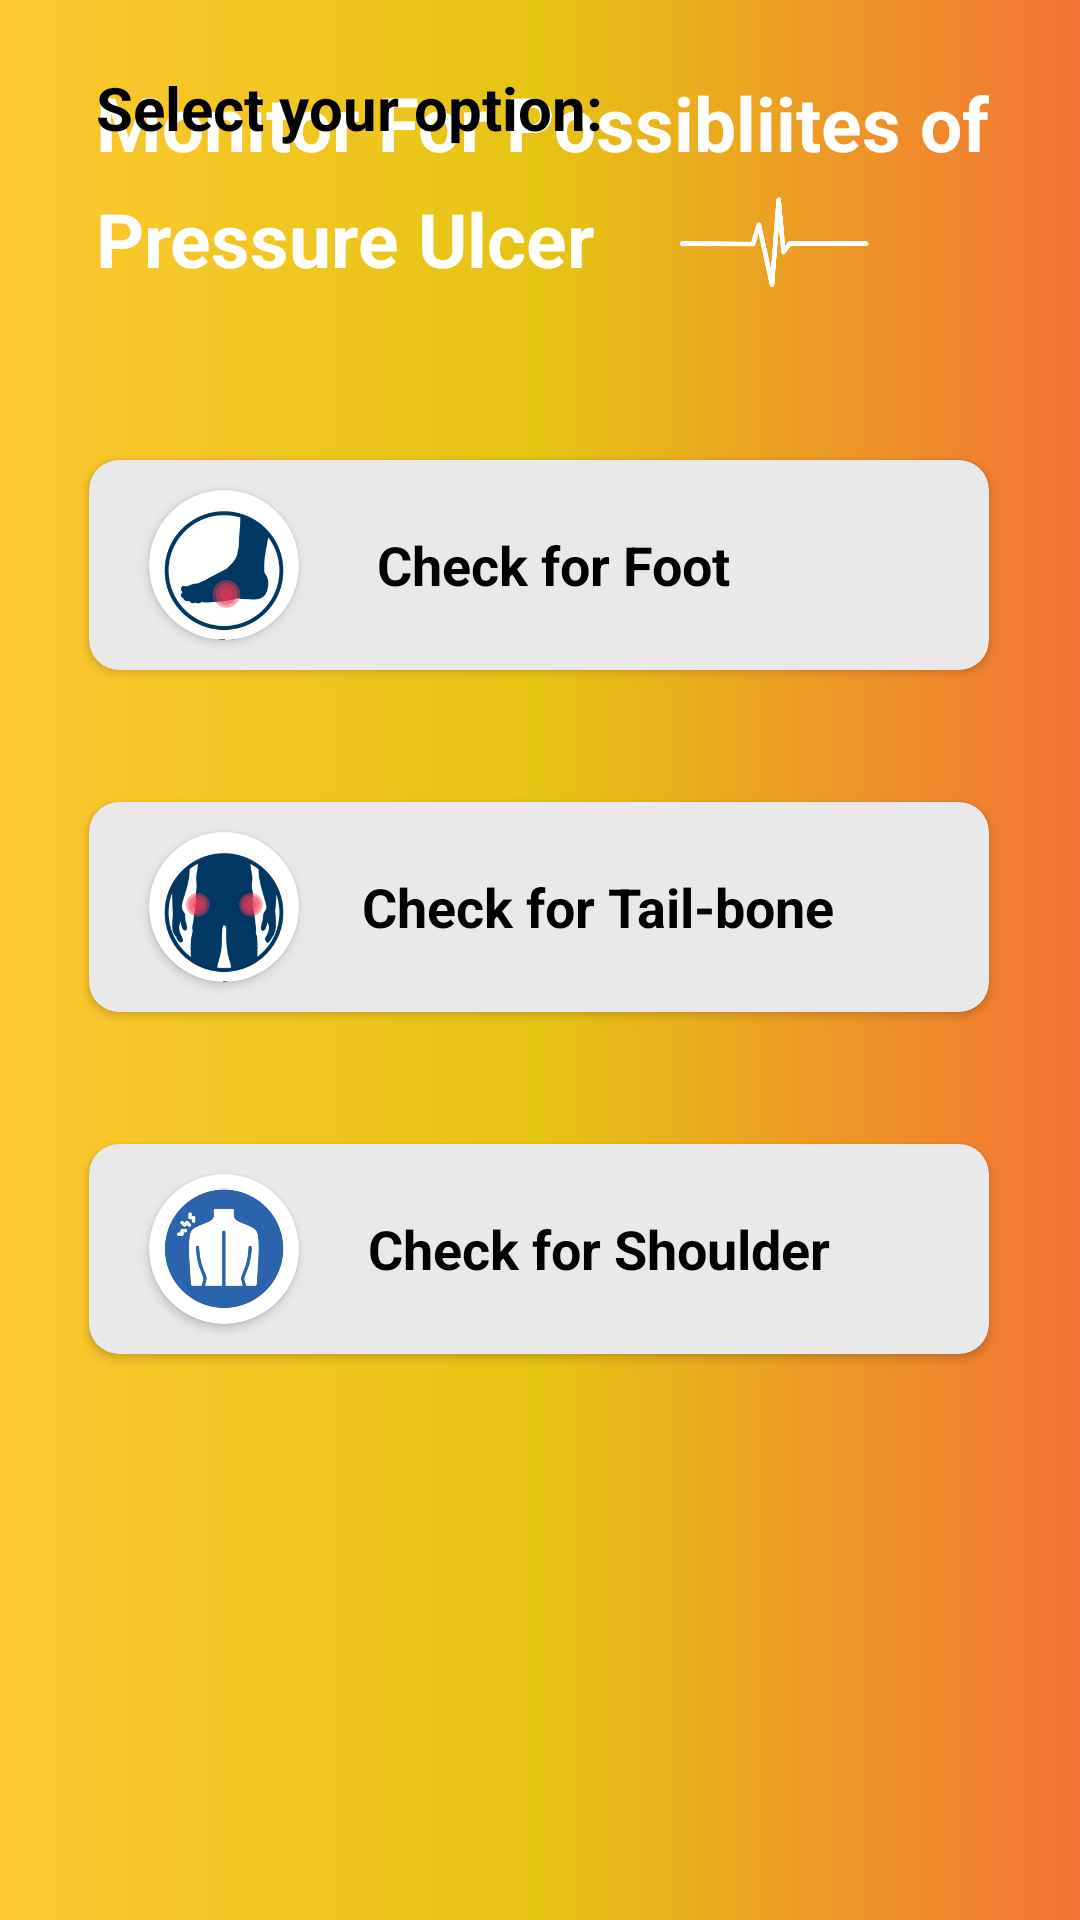

Icons on this 1080*1920 Android screen, each with the point to tap as point (x, y):
heart beat: point (774, 242)
